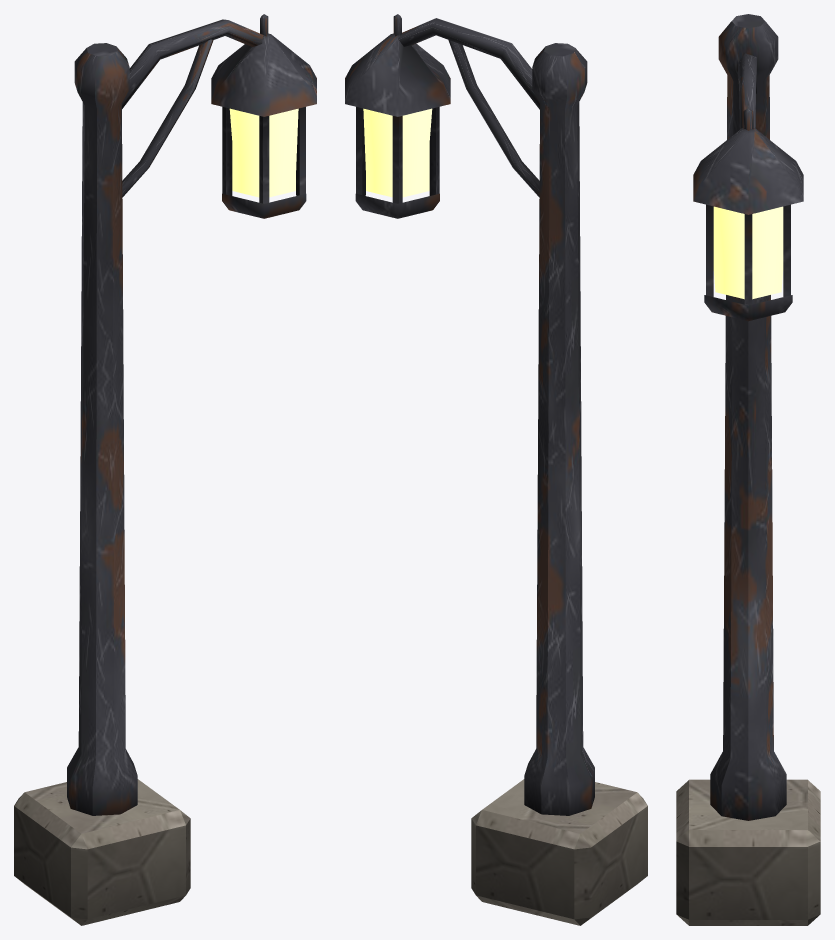
Rendered from town_lamp_post.glb.
3 renders of one model, left to right at view 1: azimuth 30°, elevation 25°; view 2: azimuth 150°, elevation 25°; view 3: azimuth 270°, elevation 25°, orthographic. The views are drawn at different scales.
Parts seen in each view (by area): view 1: town_lamp_post; view 2: town_lamp_post; view 3: town_lamp_post.
Boxes of the visible parts, x1=… form: town_lamp_post: x1=14, y1=14, x2=316, y2=925; town_lamp_post: x1=345, y1=14, x2=647, y2=925; town_lamp_post: x1=676, y1=14, x2=820, y2=925.
Bounding box in the file's own units: 0.78 × 2.29 × 0.34.
Materials: 3 (2 with a texture image).
